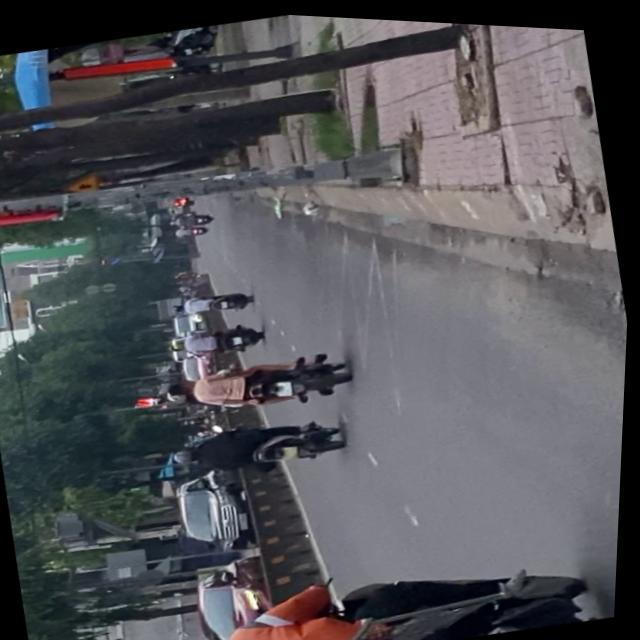helmet: (144, 635, 228, 640)
licenseplate: (136, 513, 622, 640), (160, 336, 360, 430)
motorcyclist: (165, 377, 199, 400)
nohelmet: (277, 378, 296, 396)
